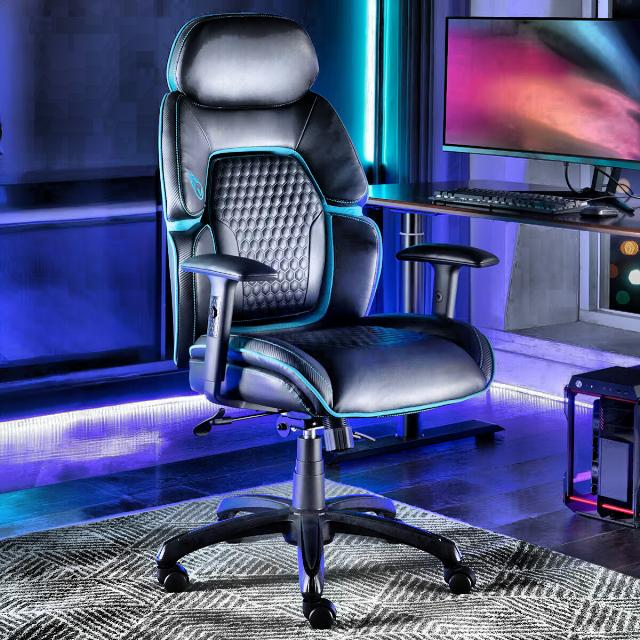cadeira: (138, 8, 501, 634)
